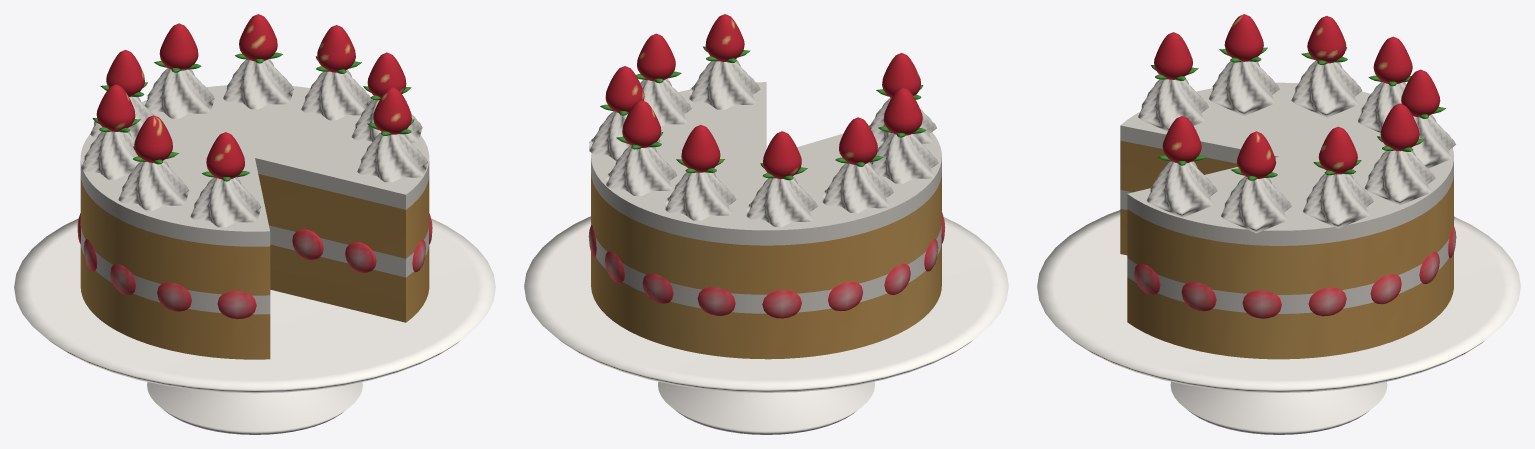
Rendered from style_cake.glb.
3 views of the same model, side by side, from view 1: azimuth 30°, elevation 25°; view 2: azimuth 150°, elevation 25°; view 3: azimuth 270°, elevation 25° (orthographic).
Visible parts, largest first — view 1: style_cake_main, style_cake_gloss; view 2: style_cake_main, style_cake_gloss; view 3: style_cake_main, style_cake_gloss.
Part boxes in pixels (x1=…): style_cake_main: x1=77, y1=14, x2=432, y2=359; style_cake_gloss: x1=14, y1=218, x2=495, y2=434; style_cake_main: x1=588, y1=14, x2=945, y2=359; style_cake_gloss: x1=524, y1=216, x2=1008, y2=434; style_cake_main: x1=1120, y1=14, x2=1456, y2=359; style_cake_gloss: x1=1037, y1=210, x2=1520, y2=434.
Bounding box in the file's own units: 0.58 × 0.424 × 0.58.
